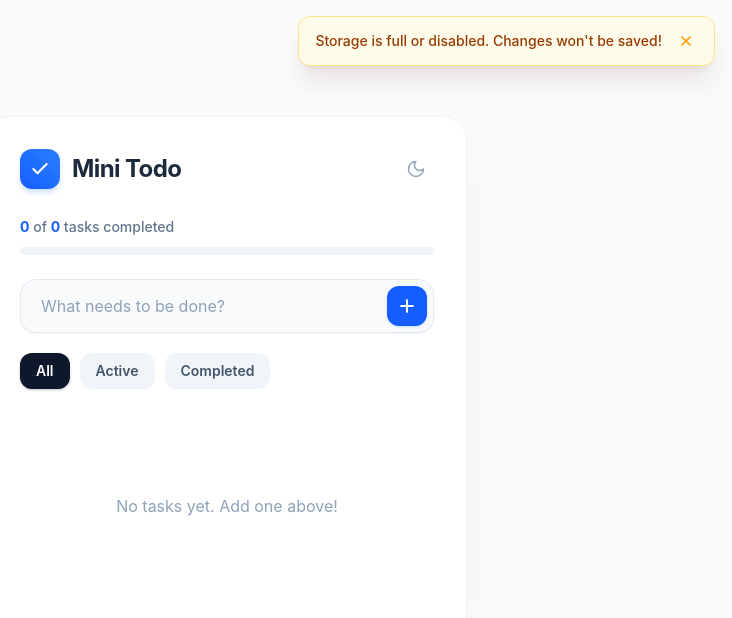
Test: LocalStorage — Data Loading, Validation & Errors › closes the storage error banner when X is clicked
Type "Test task" into the field with placeholder "What needs to be done?". click: (214,306)
box: x1=41 y1=290 x2=387 y2=322
Then press Enter
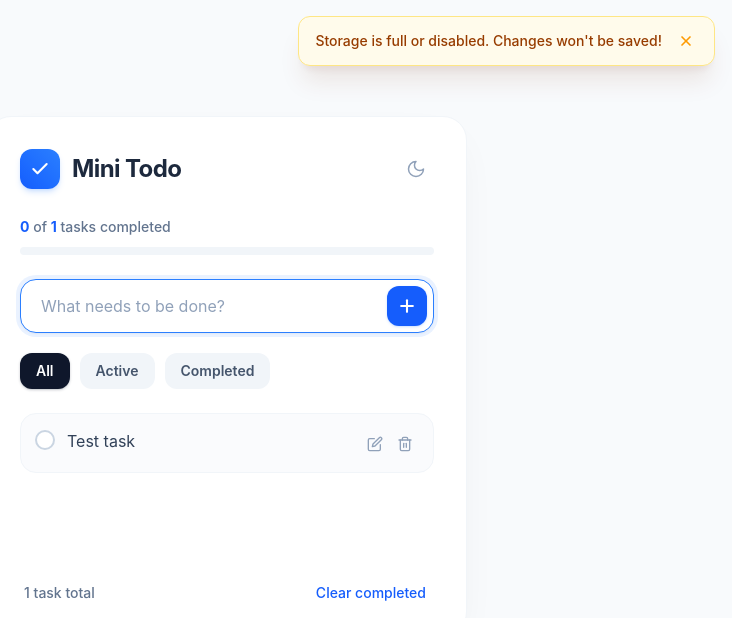
Dismiss the banner
Click the button named "close warning". click: (686,41)
box: x1=674 y1=29 x2=698 y2=53
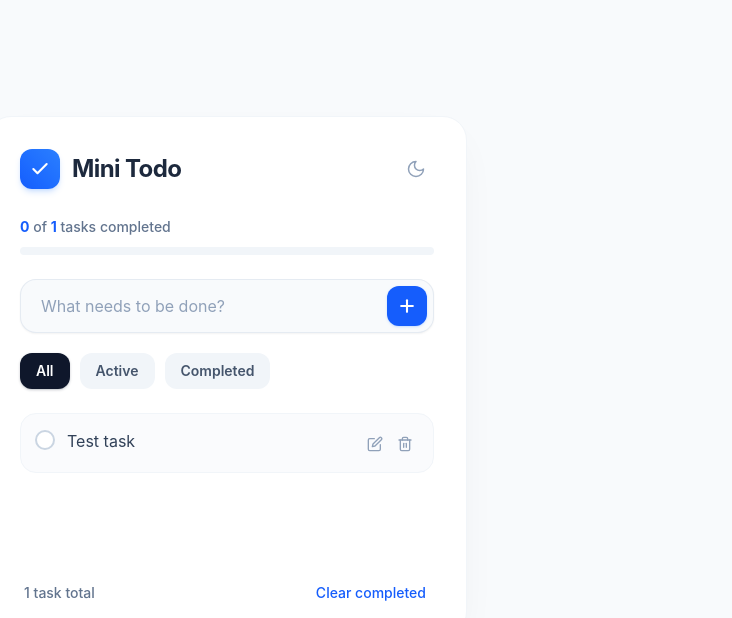
Expected: the message "Storage is full or disabled. Changes won't be saved!" is gone
